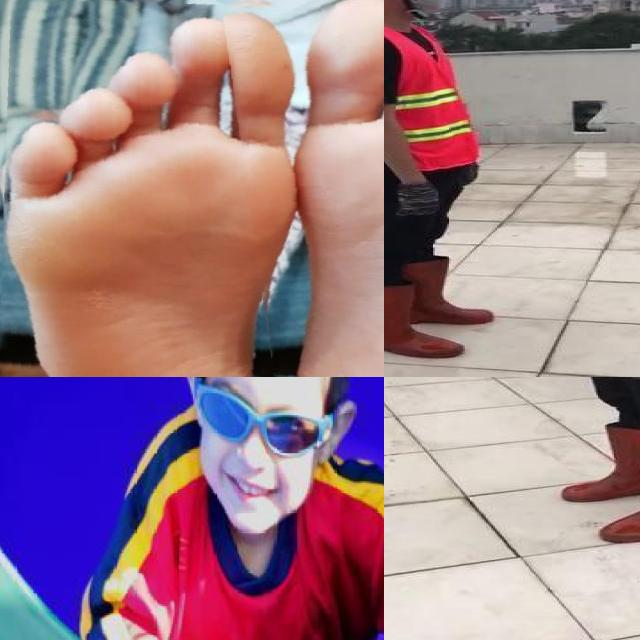Barefoots: (0, 8, 303, 377), (278, 0, 384, 377)
boots: (552, 417, 640, 506), (403, 246, 502, 324), (384, 280, 467, 361), (601, 451, 640, 546)
face_mask: (391, 0, 449, 13)
face_nomask: (196, 377, 315, 512)
glasses: (193, 377, 332, 456)
hand_glove: (396, 180, 446, 217)
person: (98, 377, 384, 640), (384, 0, 505, 364), (537, 377, 640, 552)
vest: (384, 20, 479, 168)
